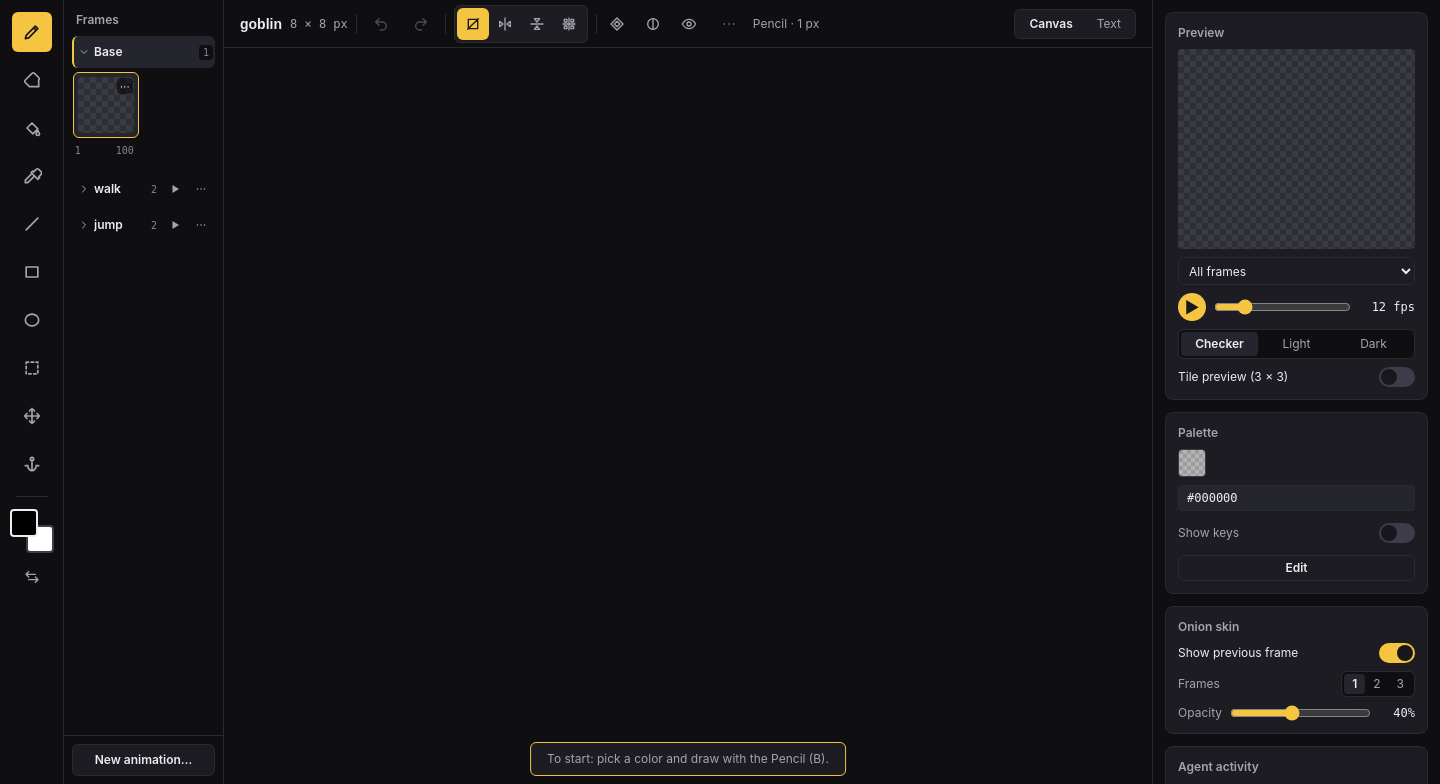
Test: The menu of an animation › deletes the animation and its frames
The width and height of the screenshot is (1440, 784).
Later steps or results of the test are not shown.
Click the button named "Menu of walk" at (201, 189), box [189, 177, 213, 201]
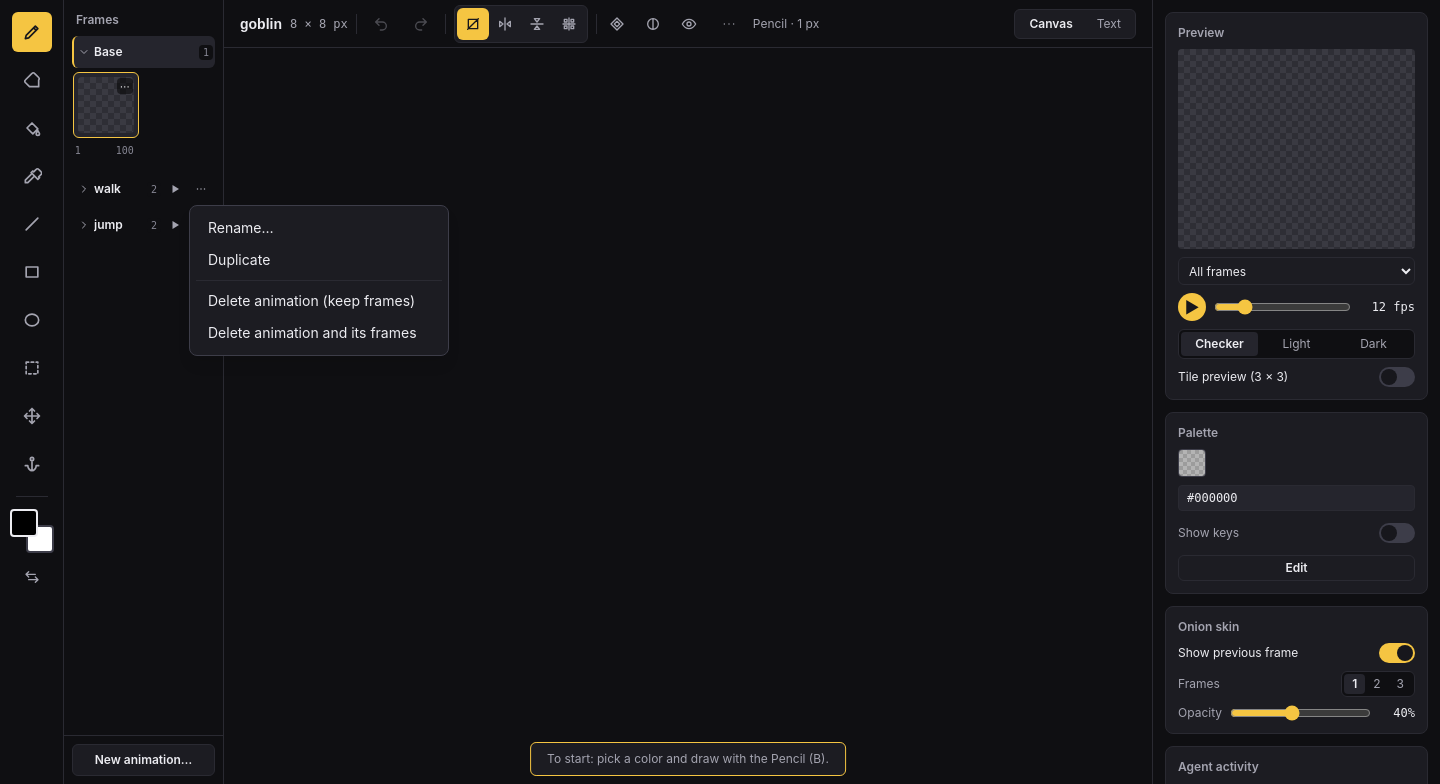
Click the menu item "Delete animation and its frames" at (319, 333), box [196, 317, 442, 349]
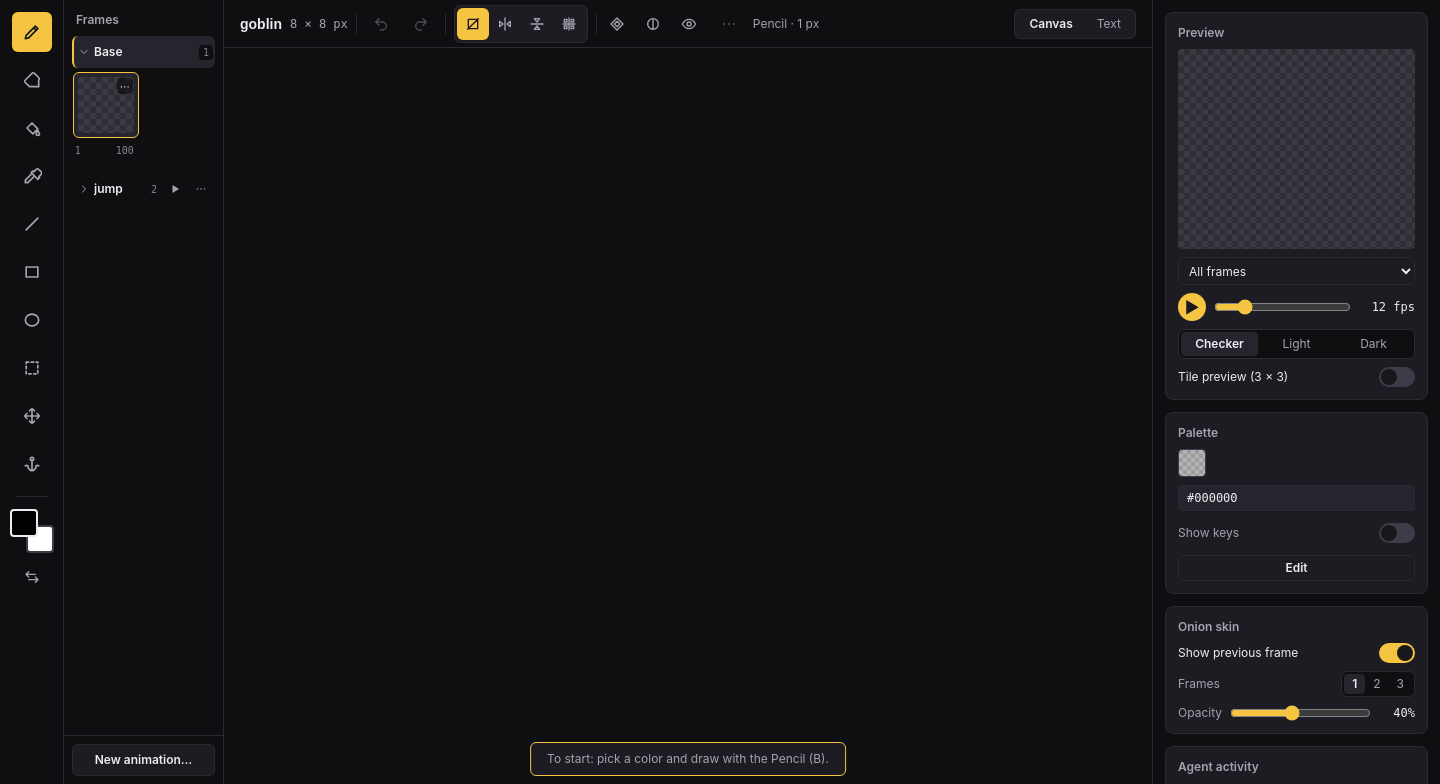
Expected: the button "walk" is gone
